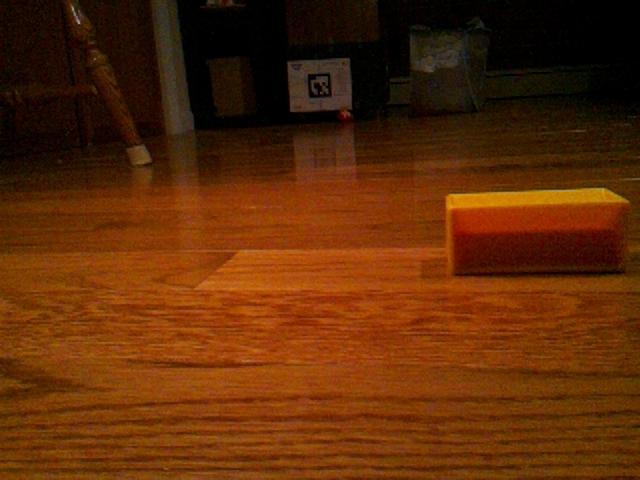yellow: (444, 186, 631, 277)
